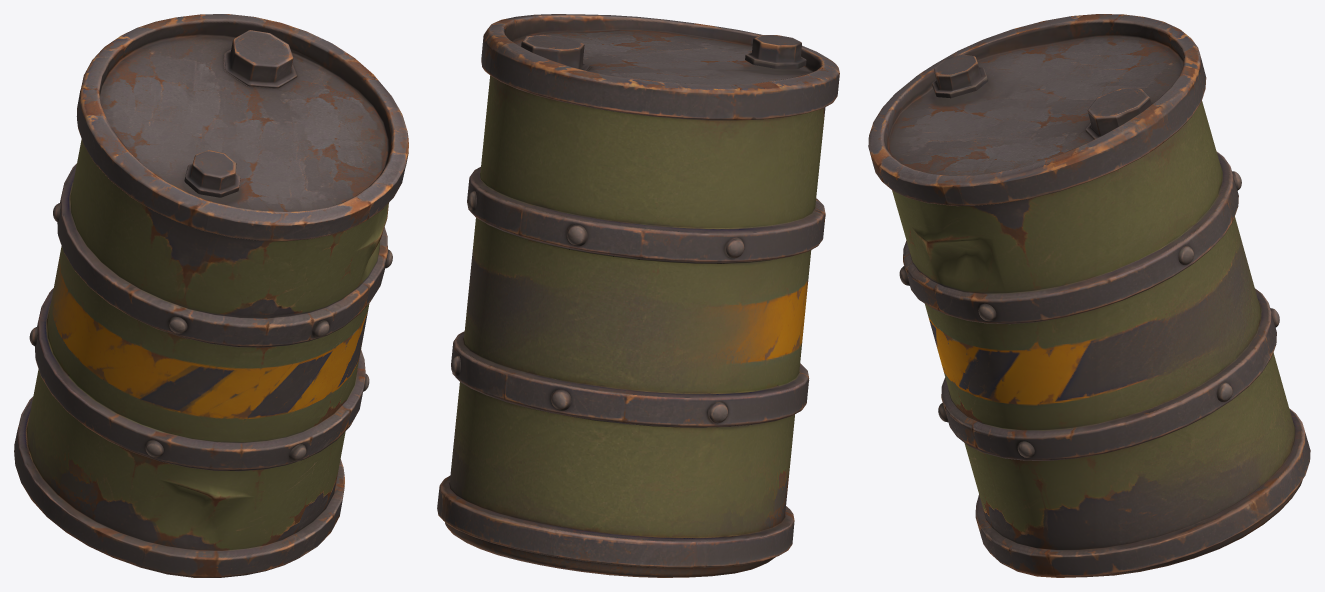
Rendered from barrel.fbx.
3 views of the same model, side by side, from view 1: azimuth 30°, elevation 25°; view 2: azimuth 150°, elevation 25°; view 3: azimuth 270°, elevation 25° (orthographic). The views are drawn at different scales.
Visible parts, largest first — view 1: c5ca5d84_d521_4123_903d_09fc45c7f4c7; view 2: c5ca5d84_d521_4123_903d_09fc45c7f4c7; view 3: c5ca5d84_d521_4123_903d_09fc45c7f4c7.
Part boxes in pixels (x1,y1,x2,y2): c5ca5d84_d521_4123_903d_09fc45c7f4c7: (14, 14, 408, 577); c5ca5d84_d521_4123_903d_09fc45c7f4c7: (437, 14, 839, 577); c5ca5d84_d521_4123_903d_09fc45c7f4c7: (868, 14, 1310, 577).
Size of the model in its own units: 62.15 by 95 by 79.29.
